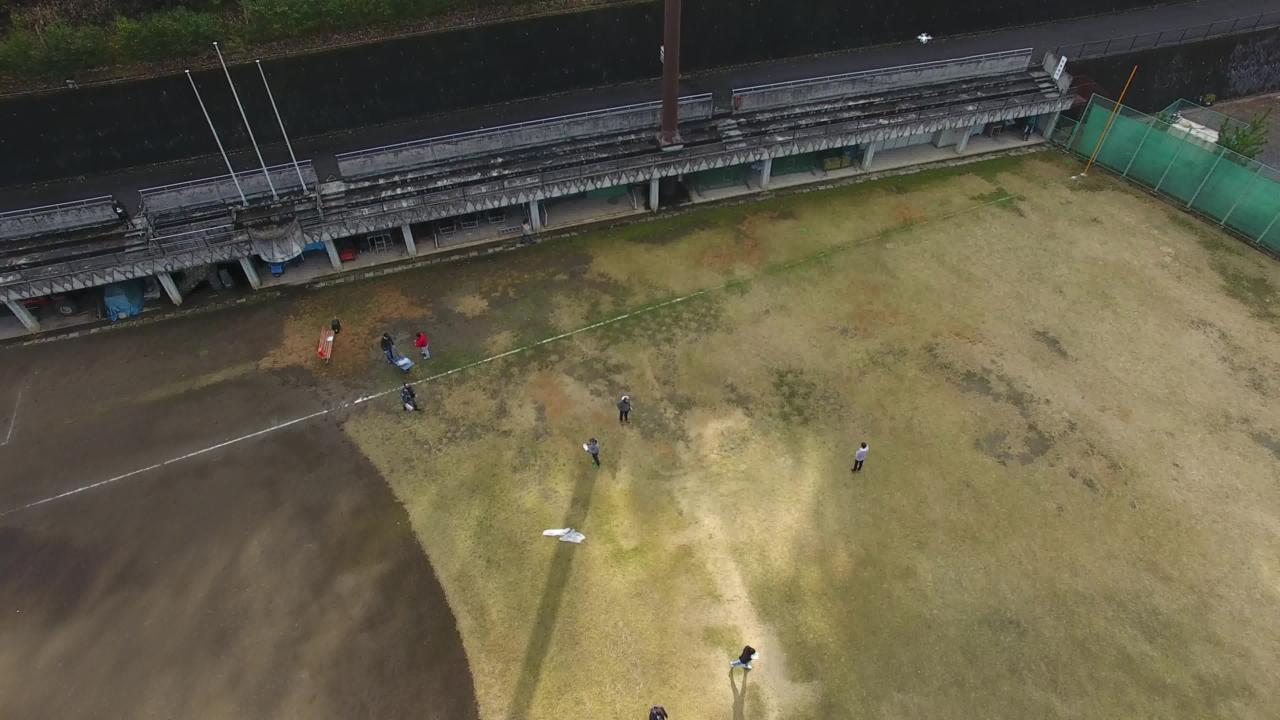person: (577, 431, 604, 474), (845, 435, 869, 481), (396, 377, 422, 416), (371, 331, 399, 361), (411, 328, 439, 358), (611, 392, 639, 422), (730, 640, 758, 670), (644, 700, 670, 720)
